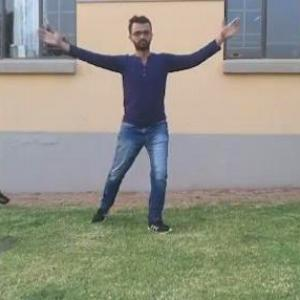takeoff: (65, 15, 248, 211)
